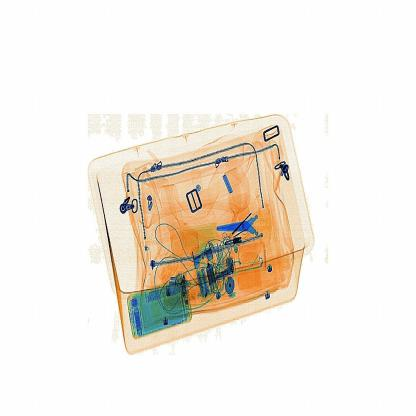gun: (216, 196, 284, 248)
